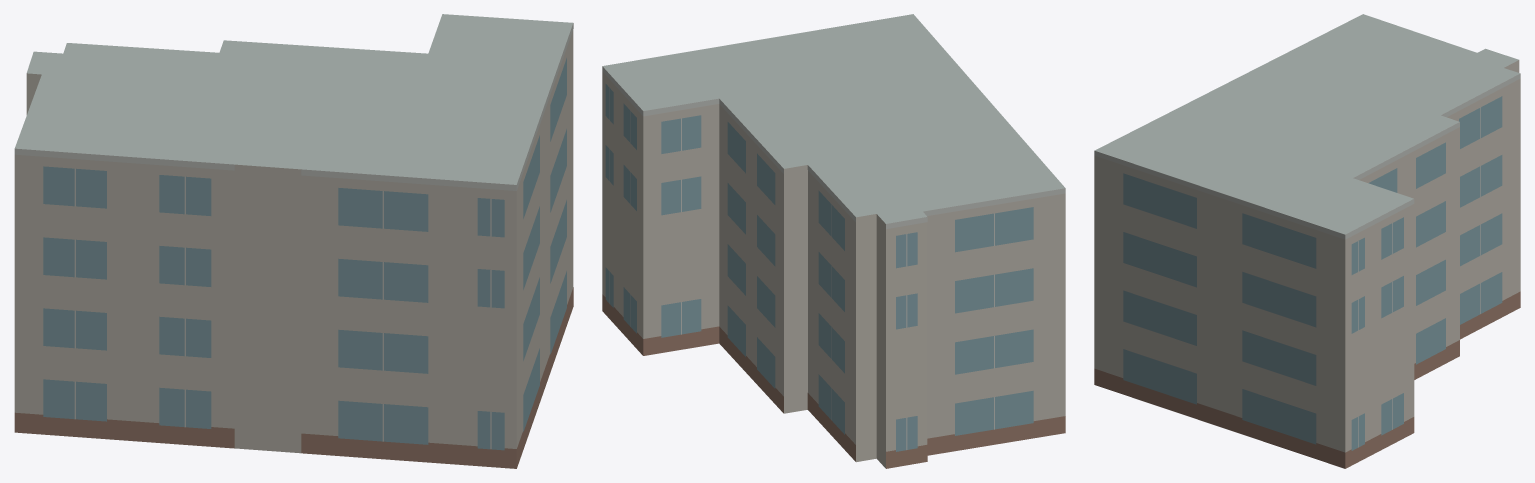
File: survey-upis-32703343.glb
3 views of the same model, side by side, from view 1: azimuth 30°, elevation 25°; view 2: azimuth 150°, elevation 25°; view 3: azimuth 270°, elevation 25° (orthographic). The views are drawn at different scales.
Parts seen in each view (by area): view 1: survey-upis-32703343.tmp; view 2: survey-upis-32703343.tmp; view 3: survey-upis-32703343.tmp.
Part boxes in pixels (<box>): survey-upis-32703343.tmp: <box>14,14,573,468</box>; survey-upis-32703343.tmp: <box>602,14,1065,468</box>; survey-upis-32703343.tmp: <box>1094,14,1520,468</box>.
Bounding box in the file's own units: 22.98 × 11.37 × 18.75.
